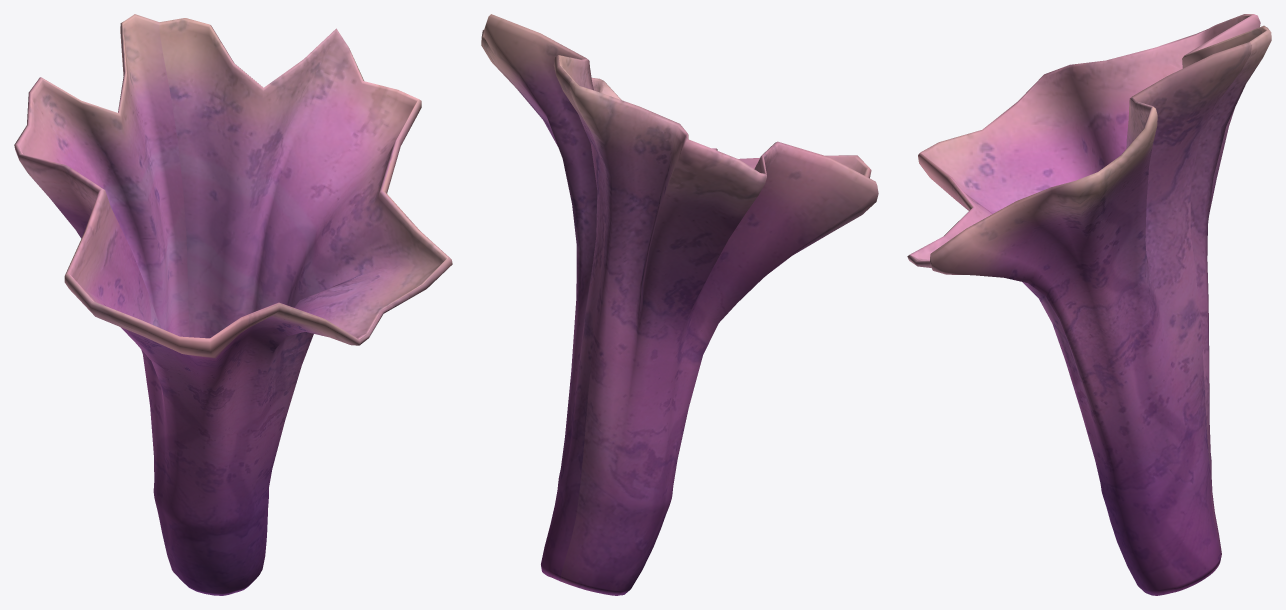
3 renders of one model, left to right at view 1: azimuth 30°, elevation 25°; view 2: azimuth 150°, elevation 25°; view 3: azimuth 270°, elevation 25°, orthographic. The views are drawn at different scales.
Visible parts, largest first — view 1: Coral_1; view 2: Coral_1; view 3: Coral_1.
Boxes of the visible parts, x1=… form: Coral_1: x1=14, y1=14, x2=452, y2=595; Coral_1: x1=481, y1=14, x2=878, y2=595; Coral_1: x1=907, y1=14, x2=1271, y2=595.
Bounding box in the file's own units: 3.85 × 5.37 × 3.27.
